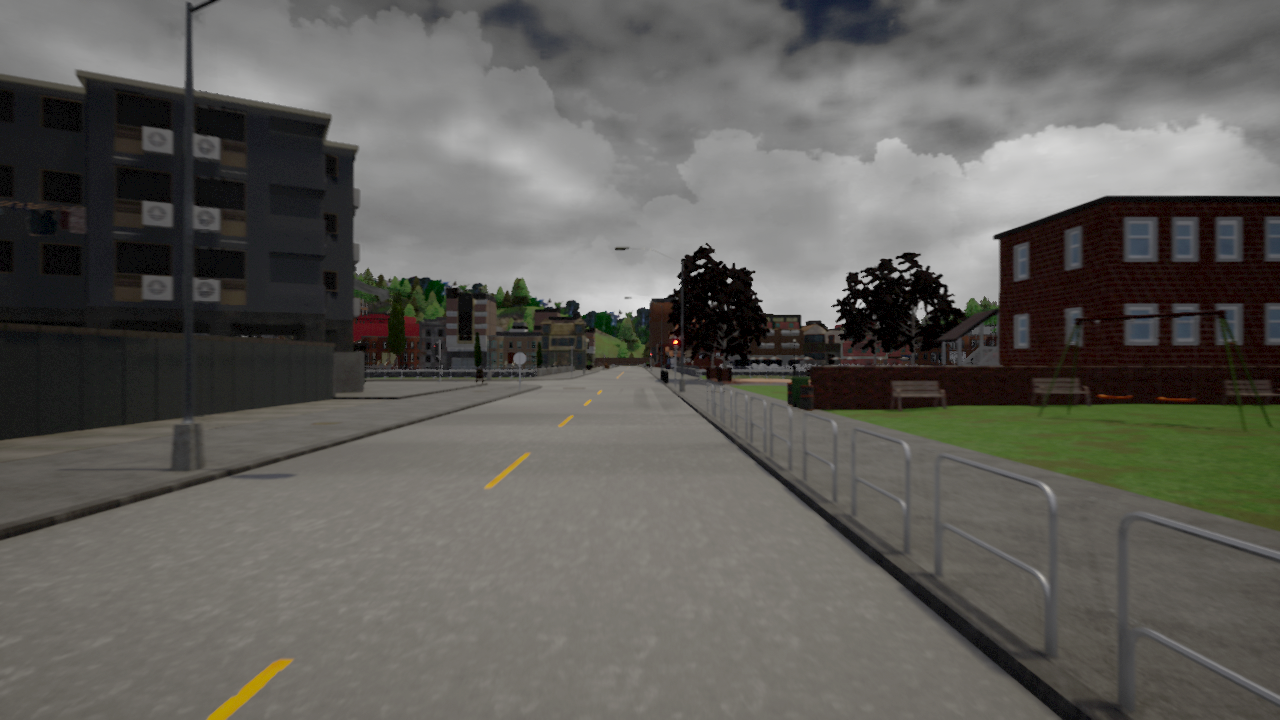red: (672, 338, 678, 355)
